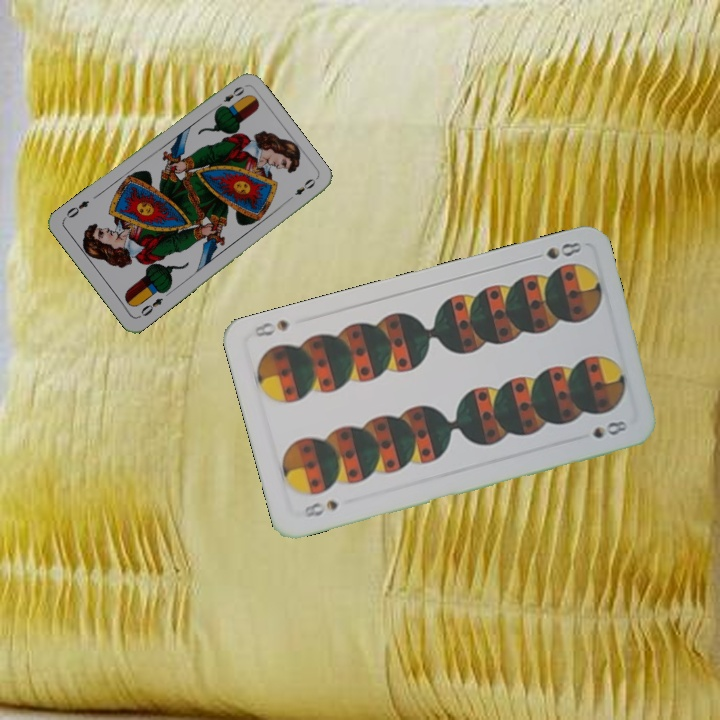EO: (212, 82, 247, 112), (136, 294, 166, 319)
S8: (526, 238, 585, 263), (300, 496, 341, 520)
